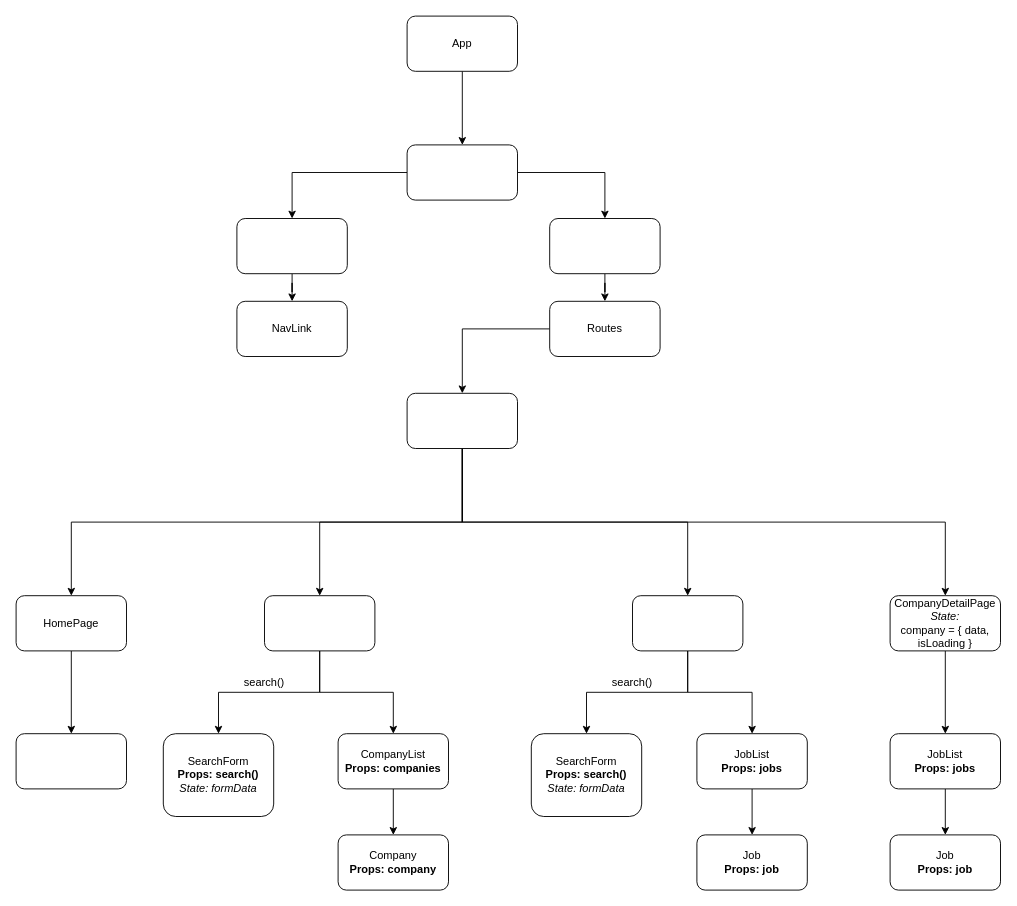
This 1017x906 diagram has some shape labels left out. Here are the shapes that lost their labels. From the top down, the centre of each, then its label:
point (462, 172): BrowserRouter
point (291, 246): Nav
point (604, 246): RoutesList
point (462, 420): Route
point (319, 623): CompaniesPage State: companies = { data, isLoading }
point (687, 623): JobsPage State: jobs = { data, isLoading }
point (70, 761): Hero
